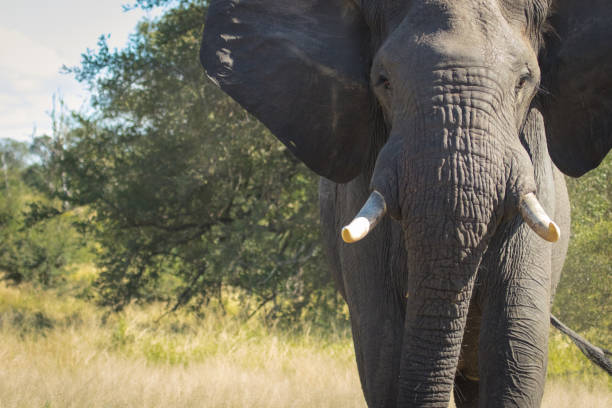africanelephant: (322, 9, 575, 319)
